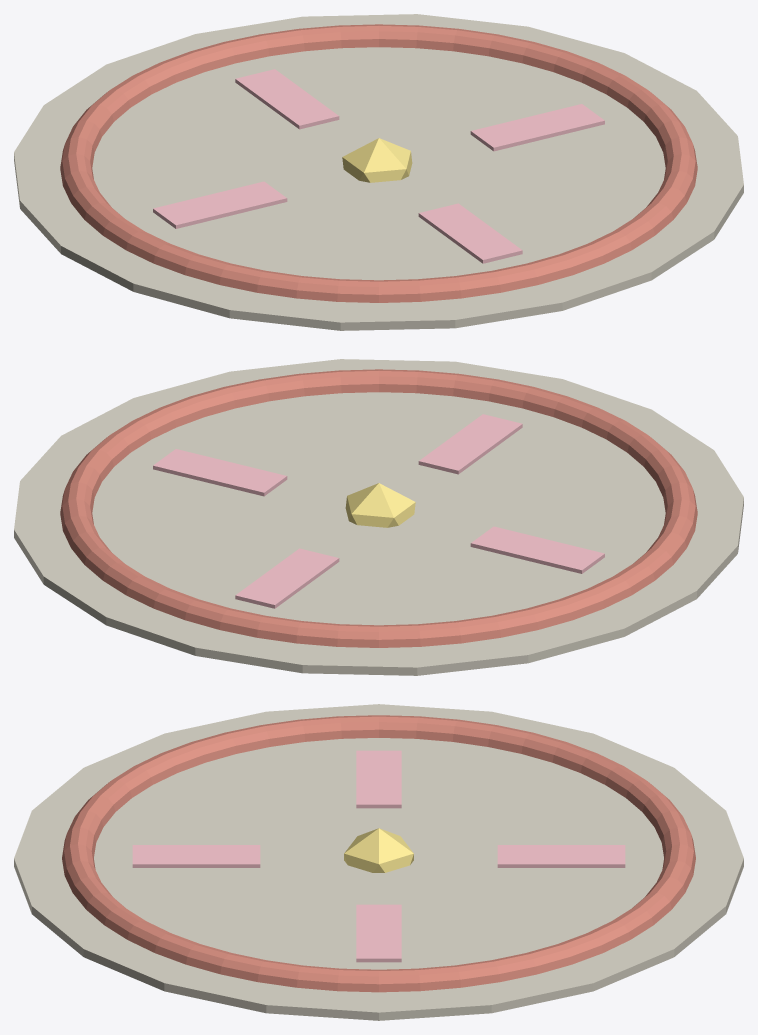
File: 18-Casas_decor_alfombra_floral.glb
3 renders of one model, top to bottom at view 1: azimuth 30°, elevation 25°; view 2: azimuth 150°, elevation 25°; view 3: azimuth 270°, elevation 25°, orthographic.
Parts seen in each view (by area): view 1: SM_AlfaFlor_Disco, SM_AlfaFlor_Anillo, SM_AlfaFlor_Petalo.002, SM_AlfaFlor_Petalo, SM_AlfaFlor_Petalo.003, SM_AlfaFlor_Petalo.001, SM_AlfaFlor_Centro; view 2: SM_AlfaFlor_Disco, SM_AlfaFlor_Anillo, SM_AlfaFlor_Petalo.002, SM_AlfaFlor_Petalo, SM_AlfaFlor_Petalo.001, SM_AlfaFlor_Petalo.003, SM_AlfaFlor_Centro; view 3: SM_AlfaFlor_Disco, SM_AlfaFlor_Anillo, SM_AlfaFlor_Petalo.001, SM_AlfaFlor_Petalo.003, SM_AlfaFlor_Petalo, SM_AlfaFlor_Petalo.002, SM_AlfaFlor_Centro.
Boxes of the visible parts, x1=… form: SM_AlfaFlor_Disco: x1=14, y1=14, x2=743, y2=330; SM_AlfaFlor_Anillo: x1=60, y1=24, x2=697, y2=302; SM_AlfaFlor_Petalo.002: x1=153, y1=181, x2=287, y2=228; SM_AlfaFlor_Petalo: x1=470, y1=104, x2=604, y2=151; SM_AlfaFlor_Petalo.003: x1=418, y1=203, x2=522, y2=263; SM_AlfaFlor_Petalo.001: x1=235, y1=69, x2=339, y2=129; SM_AlfaFlor_Centro: x1=342, y1=138, x2=412, y2=182; SM_AlfaFlor_Disco: x1=14, y1=359, x2=743, y2=675; SM_AlfaFlor_Anillo: x1=60, y1=369, x2=697, y2=647; SM_AlfaFlor_Petalo.002: x1=470, y1=526, x2=604, y2=573; SM_AlfaFlor_Petalo: x1=153, y1=449, x2=287, y2=496; SM_AlfaFlor_Petalo.001: x1=235, y1=548, x2=339, y2=608; SM_AlfaFlor_Petalo.003: x1=418, y1=414, x2=522, y2=474; SM_AlfaFlor_Centro: x1=345, y1=483, x2=415, y2=527; SM_AlfaFlor_Disco: x1=14, y1=704, x2=743, y2=1020; SM_AlfaFlor_Anillo: x1=62, y1=715, x2=695, y2=992; SM_AlfaFlor_Petalo.001: x1=497, y1=845, x2=625, y2=867; SM_AlfaFlor_Petalo.003: x1=132, y1=845, x2=260, y2=867; SM_AlfaFlor_Petalo: x1=356, y1=904, x2=401, y2=962; SM_AlfaFlor_Petalo.002: x1=356, y1=750, x2=401, y2=808; SM_AlfaFlor_Centro: x1=344, y1=828, x2=413, y2=872.
Size of the model in its own units: 1.6 by 0.18 by 1.6.
